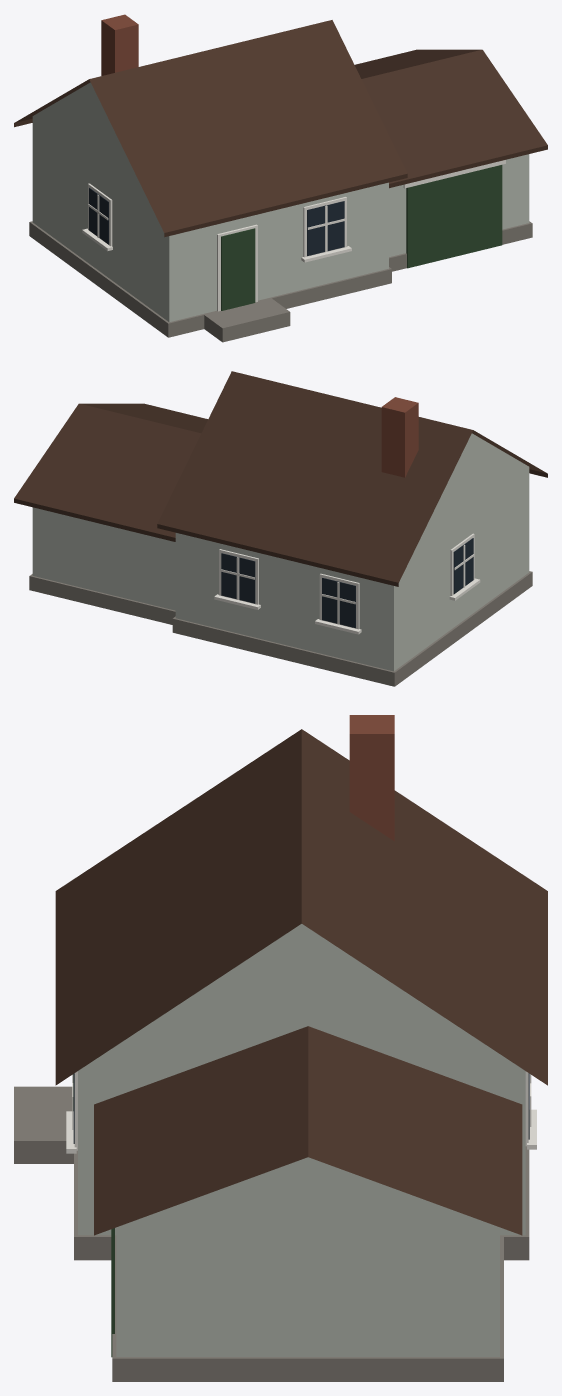
Rendered from house3.glb.
The picture shows the model from 3 angles, top to bottom: view 1: azimuth 30°, elevation 25°; view 2: azimuth 150°, elevation 25°; view 3: azimuth 270°, elevation 25°; orthographic projection. The views are drawn at different scales.
Parts seen in each view (by area): view 1: house; view 2: house; view 3: house.
Boxes of the visible parts, left/top/right/bottom form: house: left=14, top=14, right=547, bottom=342; house: left=14, top=371, right=547, bottom=686; house: left=14, top=715, right=547, bottom=1381.
Bounding box in the file's own units: 11.7 × 6.74 × 8.35.
